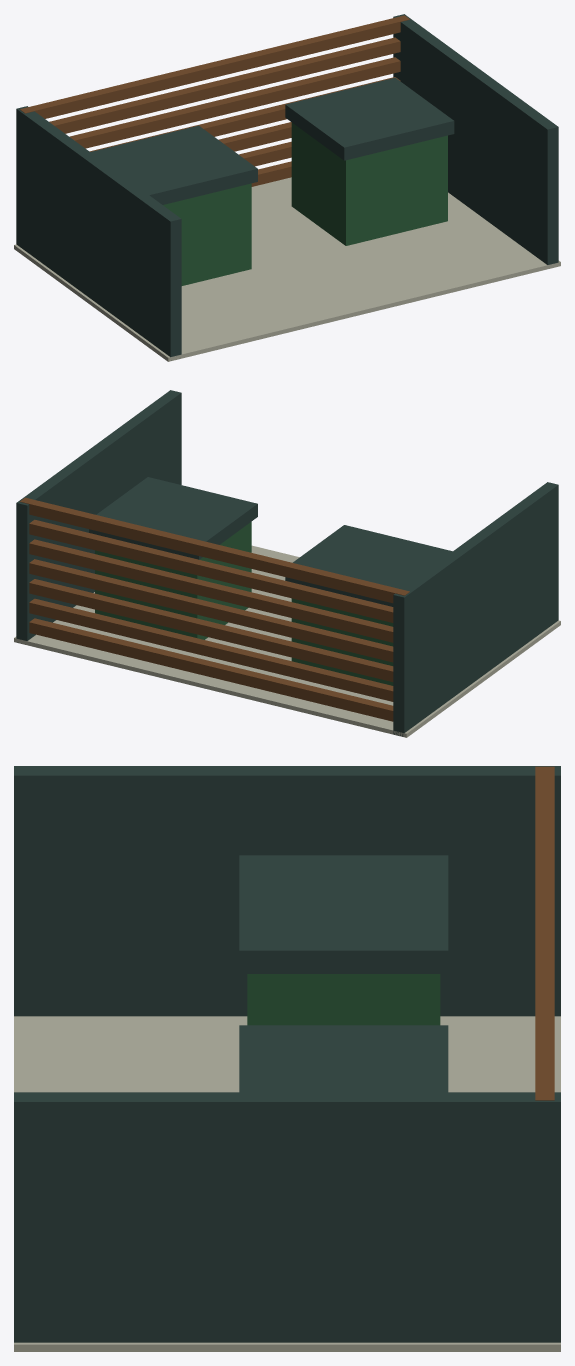
File: BinEnclosure.obj
3 renders of one model, top to bottom at view 1: azimuth 30°, elevation 25°; view 2: azimuth 150°, elevation 25°; view 3: azimuth 270°, elevation 25°, orthographic. The views are drawn at different scales.
Visible parts, largest first — view 1: BinEnclosure; view 2: BinEnclosure; view 3: BinEnclosure.
Part boxes in pixels (x1=…): BinEnclosure: x1=14, y1=14, x2=560, y2=361; BinEnclosure: x1=14, y1=390, x2=560, y2=737; BinEnclosure: x1=14, y1=766, x2=560, y2=1351.
Bounding box in the file's own units: 5 × 1.71 × 3.4.
Materials: 1 (1 with a texture image).
